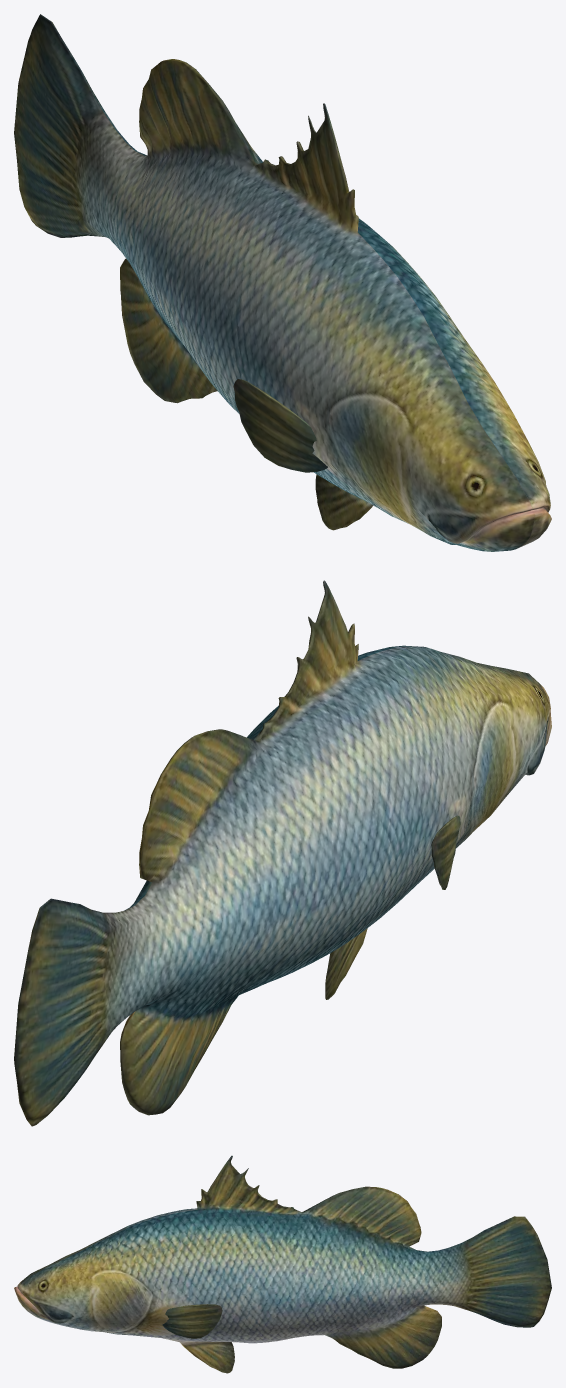
The model's file is barramundi-painted.glb.
3 views of the same model, one above another, from view 1: azimuth 30°, elevation 25°; view 2: azimuth 150°, elevation 25°; view 3: azimuth 270°, elevation 25° (orthographic). The views are drawn at different scales.
Parts seen in each view (by area): view 1: BarramundiFish; view 2: BarramundiFish; view 3: BarramundiFish.
Part boxes in pixels (<box>): BarramundiFish: <box>14,14,551,551</box>; BarramundiFish: <box>14,580,551,1126</box>; BarramundiFish: <box>14,1155,551,1373</box>.
Size of the model in its own units: 0.1429 by 0.2875 by 0.6431.
Materials: 1 (1 with a texture image).
